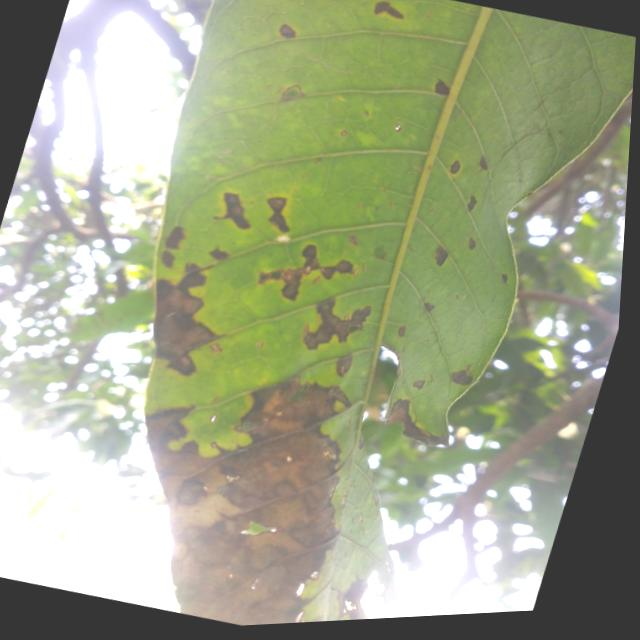Anthracnose: (144, 378, 340, 628), (186, 176, 388, 330), (136, 272, 238, 391), (262, 10, 317, 51), (357, 0, 418, 32), (421, 73, 466, 105)
